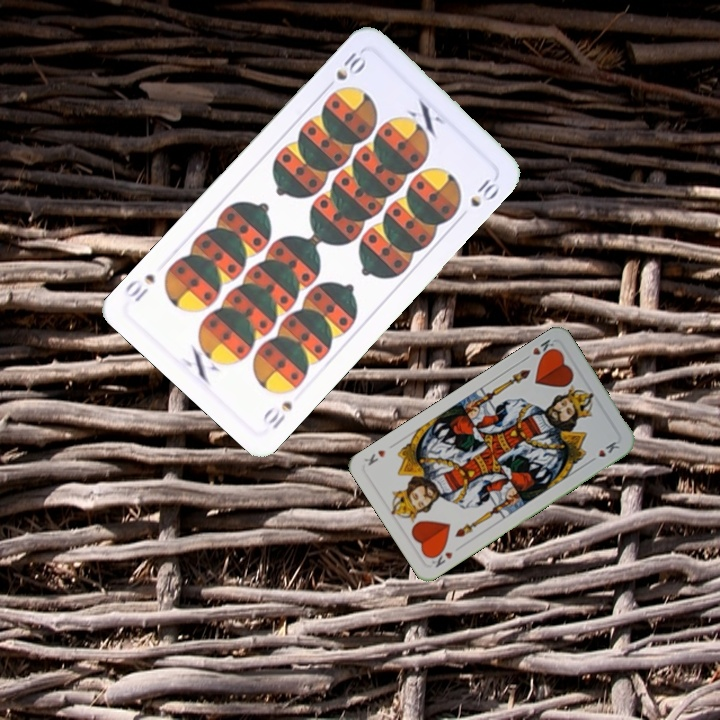HK: (528, 335, 559, 363), (425, 544, 456, 570)
S10: (320, 47, 370, 94), (258, 397, 295, 432)
